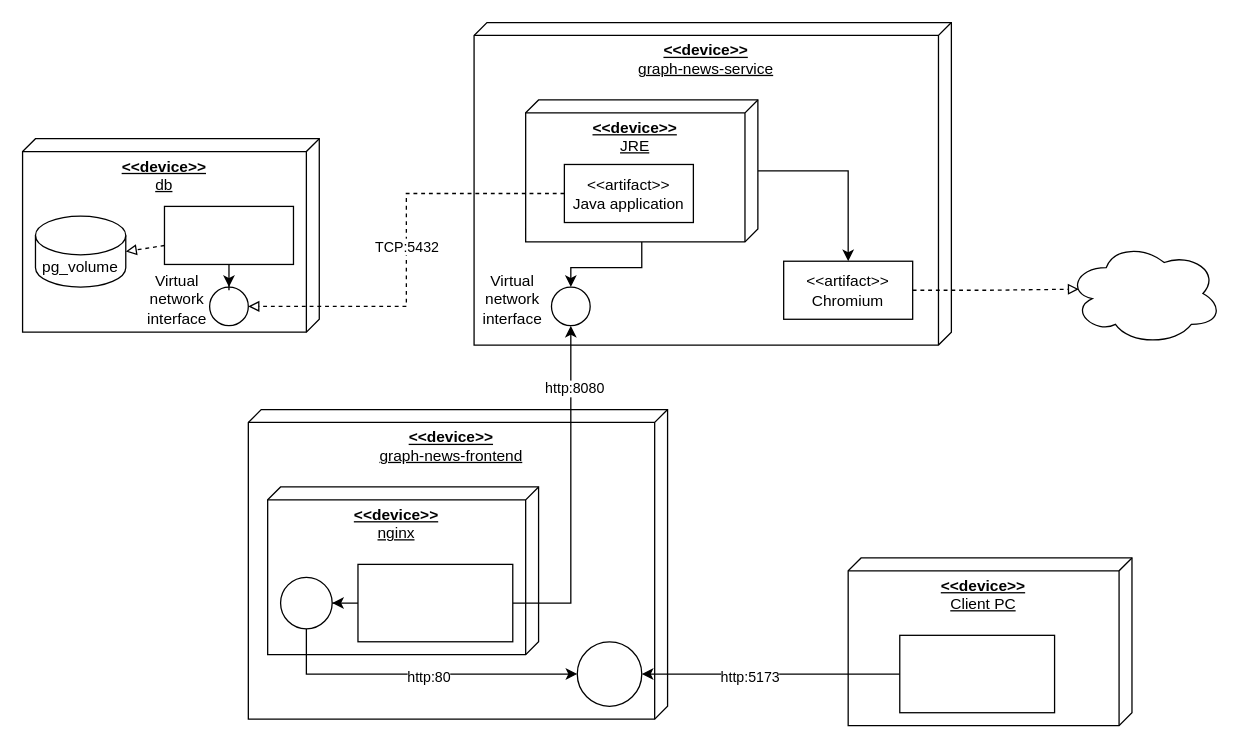
This 1245x748 diagram has some shape labels left out. The shapes that lost their labels are listed below. From the top down, each one's centre as x and y in pixels, then its label:
At point 228,234: "<<artifact>> Postgres instance".
At point 1144,293: "Internet".
At point 435,602: "<<artifact>> web-app".
At point 976,673: "<<artifact>> web-browser".
